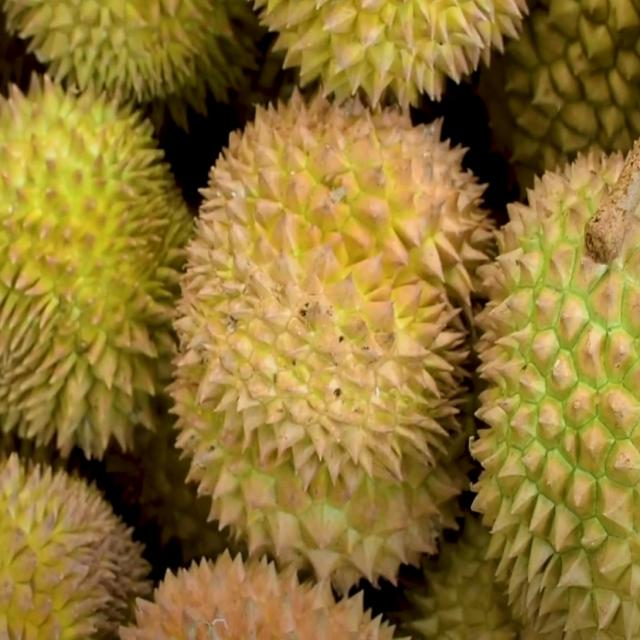mature: (167, 90, 507, 586)
